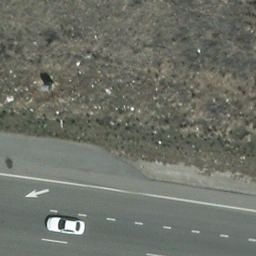car: (44, 216, 91, 234)
